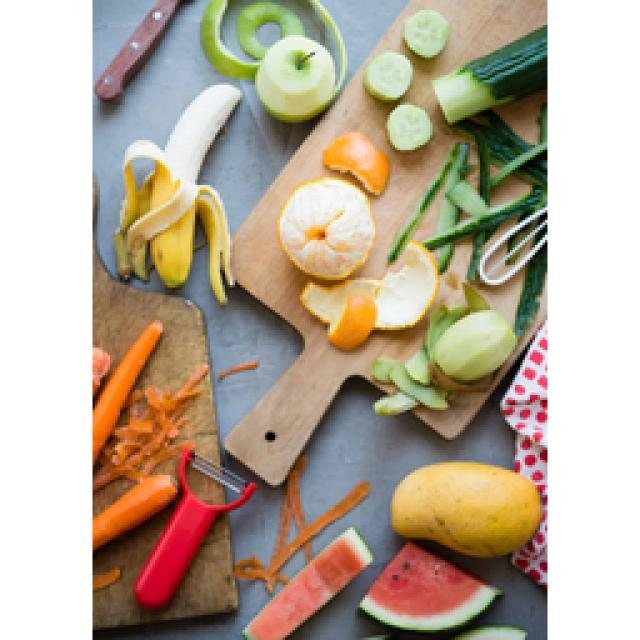food_waste: (280, 28, 545, 412), (115, 85, 238, 302), (390, 462, 538, 555), (245, 528, 368, 638), (360, 542, 498, 628), (92, 330, 158, 458), (255, 35, 332, 120)
